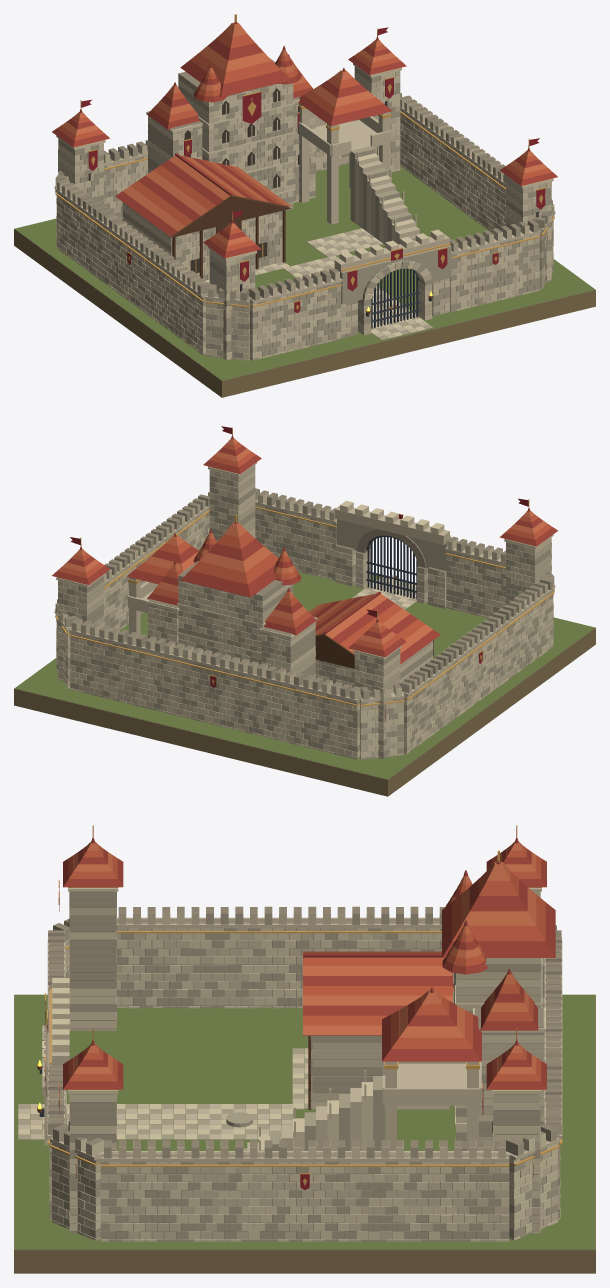
Rendered from stockade-nivel-8.glb.
3 renders of one model, top to bottom at view 1: azimuth 30°, elevation 25°; view 2: azimuth 150°, elevation 25°; view 3: azimuth 270°, elevation 25°, orthographic. The views are drawn at different scales.
Parts seen in each view (by area): view 1: stone_8_cfc1a3, stone_8_b4a98f, stone_8_ded0ad, stone_8_738449, stone_8_8d7955, stone_8_9e4235, stone_8_b9583c, stone_8_c66c49, stone_8_9a8d77, stone_8_dba85a, stone_8_63422c, stone_8_992b31 (+3 smaller); view 2: stone_8_cfc1a3, stone_8_ded0ad, stone_8_b4a98f, stone_8_738449, stone_8_8d7955, stone_8_9e4235, stone_8_9a8d77, stone_8_b9583c, stone_8_c66c49, stone_8_dba85a, right_8_3a424d.001, left_8_3a424d.001 (+1 smaller); view 3: stone_8_cfc1a3, stone_8_738449, stone_8_ded0ad, stone_8_b4a98f, stone_8_9a8d77, stone_8_9e4235, stone_8_8d7955, stone_8_b9583c, stone_8_c66c49, stone_8_dba85a.
Boxes of the visible parts, x1,y1,x2,y2 form: stone_8_cfc1a3: (54, 71, 555, 360); stone_8_b4a98f: (56, 66, 553, 360); stone_8_ded0ad: (55, 63, 554, 360); stone_8_738449: (15, 164, 594, 380); stone_8_8d7955: (14, 229, 595, 397); stone_8_9e4235: (52, 22, 557, 258); stone_8_b9583c: (57, 31, 552, 251); stone_8_c66c49: (62, 22, 547, 245); stone_8_9a8d77: (14, 58, 595, 380); stone_8_dba85a: (55, 28, 554, 310); stone_8_63422c: (171, 195, 290, 278); stone_8_992b31: (81, 27, 547, 319); stone_8_cfc1a3: (54, 465, 555, 758); stone_8_ded0ad: (56, 462, 553, 757); stone_8_b4a98f: (55, 475, 553, 759); stone_8_738449: (14, 572, 595, 779); stone_8_8d7955: (14, 628, 595, 796); stone_8_9e4235: (52, 435, 557, 663); stone_8_9a8d77: (14, 470, 594, 779); stone_8_b9583c: (57, 442, 552, 650); stone_8_c66c49: (62, 438, 547, 653); stone_8_dba85a: (55, 427, 554, 709); right_8_3a424d.001: (366, 535, 393, 592); left_8_3a424d.001: (392, 537, 417, 599); stone_8_cfc1a3: (18, 906, 562, 1241); stone_8_738449: (14, 994, 595, 1249); stone_8_ded0ad: (18, 888, 561, 1241); stone_8_b4a98f: (18, 891, 561, 1241); stone_8_9a8d77: (14, 891, 595, 1250); stone_8_9e4235: (63, 838, 555, 1089); stone_8_8d7955: (14, 995, 595, 1273); stone_8_b9583c: (68, 845, 545, 1081); stone_8_c66c49: (73, 842, 536, 1073); stone_8_dba85a: (45, 825, 562, 1185).
Size of the model in its own units: 32.8 by 17.67 by 31.6.
